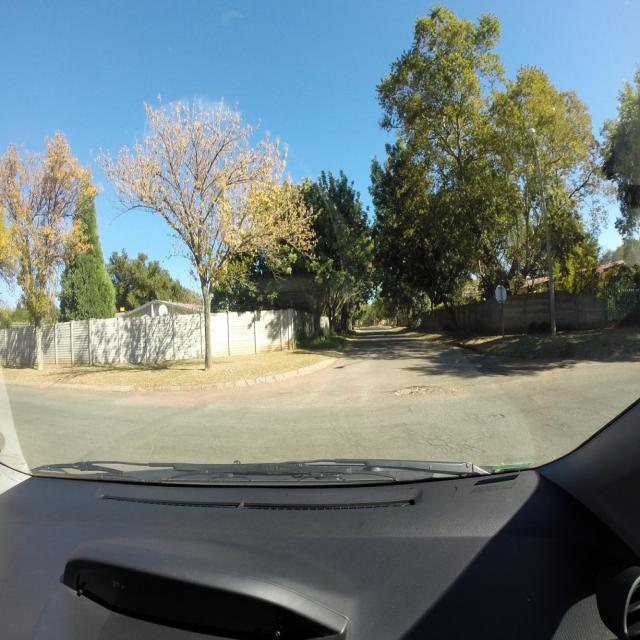Pothole: (393, 385, 434, 395), (449, 384, 466, 392), (488, 414, 505, 419)
